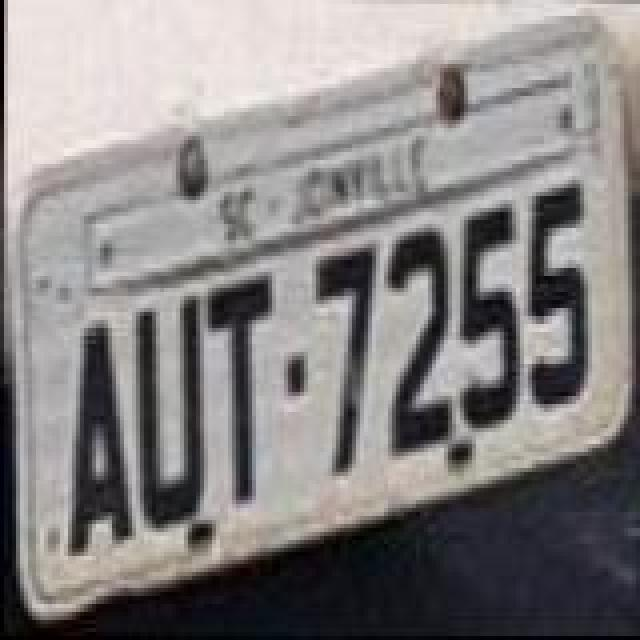2: (380, 228, 456, 460)
5: (454, 202, 526, 438), (524, 180, 592, 412)
7: (312, 244, 380, 480)
A: (62, 318, 138, 562)
T: (200, 266, 272, 510)
U: (128, 292, 208, 536)
